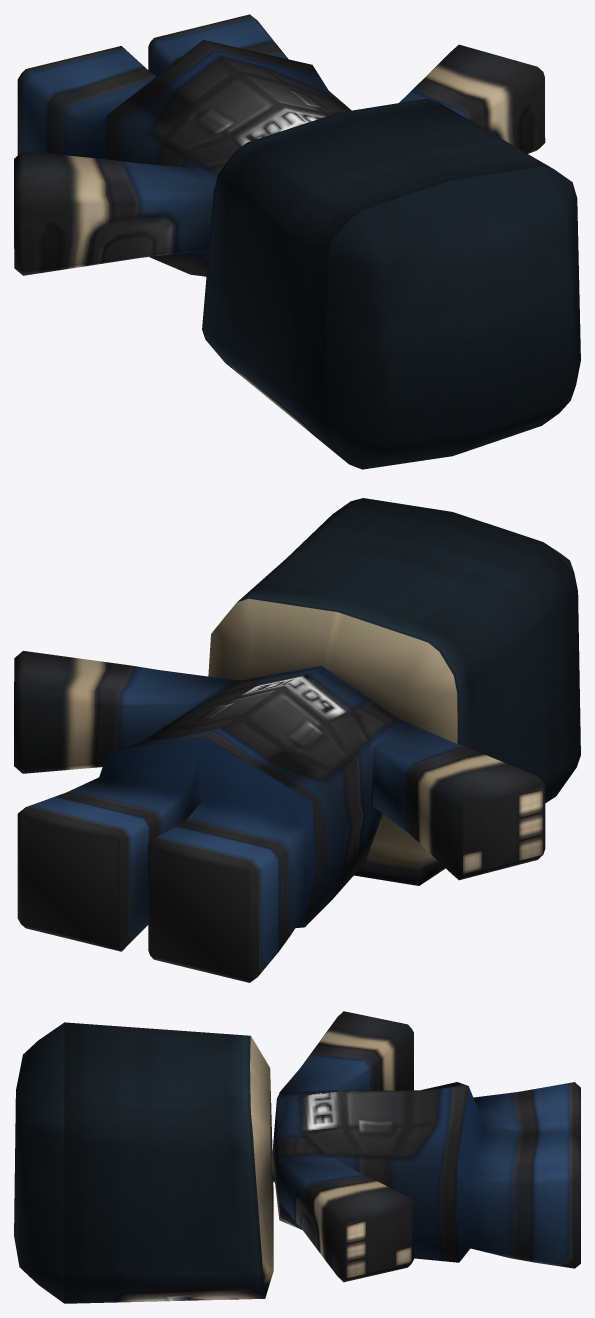
Rendered from swat_body.obj.
3 views of the same model, one above another, from view 1: azimuth 30°, elevation 25°; view 2: azimuth 150°, elevation 25°; view 3: azimuth 270°, elevation 25° (orthographic). The views are drawn at different scales.
Bounding box in the file's own units: 1.41 × 0.7049 × 1.62.
1 material, 1 textured.
